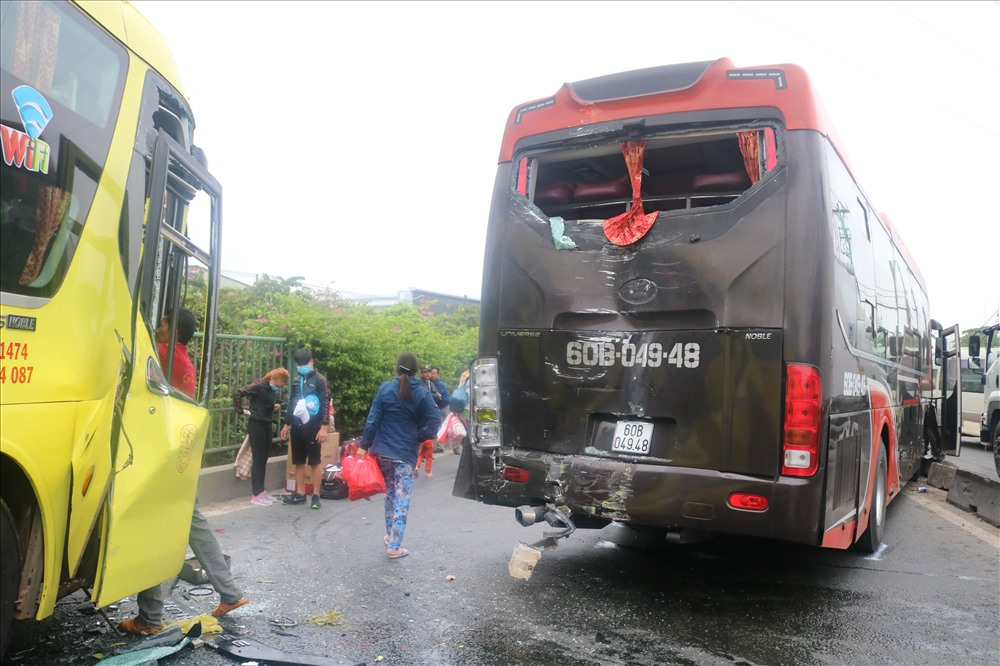Bien-so: (611, 418, 656, 455)
